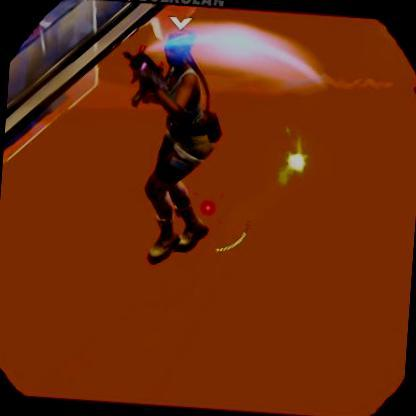person: (119, 34, 232, 266)
